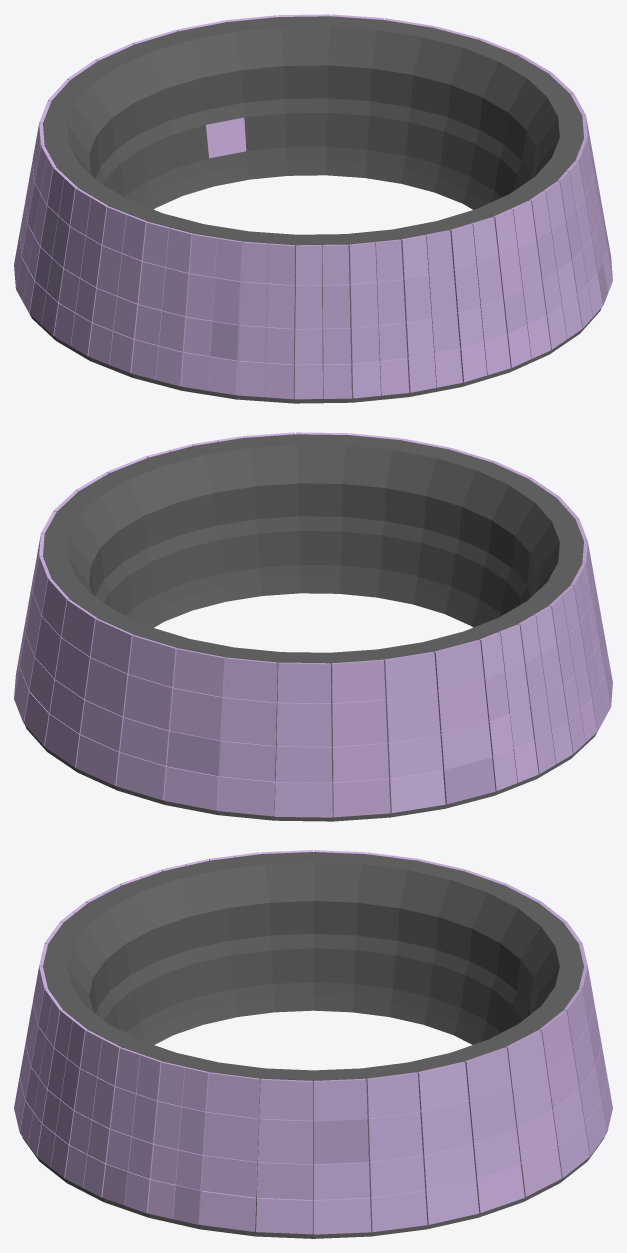
File: BlastFurnaceR.gltf
The picture shows the model from 3 angles, top to bottom: view 1: azimuth 30°, elevation 25°; view 2: azimuth 150°, elevation 25°; view 3: azimuth 270°, elevation 25°; orthographic projection.
Parts seen in each view (by area): view 1: HearthF, H2S09, H3S34, H3S32, H3S36, H3S35, H3S33, H3S31, H3S37, H3S30, H3S38, H3S29 (+83 smaller); view 2: HearthF, H3S04, H3S03, H3S05, H3S02, H3S06, H4S03, H4S04, H4S05, H3S01, H4S02, H1S04 (+51 smaller); view 3: HearthF, H3S14, H3S15, H3S13, H3S16, H3S12, H4S14, H4S15, H4S13, H4S16, H2S14, H2S15 (+57 smaller).
Part boxes in pixels (bbox=[...]): HearthF: bbox=[29, 16, 601, 403]; H2S09: bbox=[206, 117, 246, 158]; H3S34: bbox=[295, 285, 322, 328]; H3S32: bbox=[350, 282, 378, 327]; H3S36: bbox=[239, 281, 268, 326]; H3S35: bbox=[267, 283, 294, 328]; H3S33: bbox=[323, 284, 350, 328]; H3S31: bbox=[376, 279, 405, 325]; H3S37: bbox=[212, 277, 241, 324]; H3S30: bbox=[403, 275, 431, 322]; H3S38: bbox=[186, 273, 214, 320]; H3S29: bbox=[428, 270, 456, 317]; HearthF: bbox=[25, 434, 597, 821]; H3S04: bbox=[276, 702, 331, 746]; H3S03: bbox=[332, 699, 387, 746]; H3S05: bbox=[221, 697, 276, 745]; H3S02: bbox=[385, 691, 440, 742]; H3S06: bbox=[170, 688, 223, 740]; H4S03: bbox=[331, 659, 385, 703]; H4S04: bbox=[277, 662, 331, 703]; H4S05: bbox=[223, 657, 277, 702]; H3S01: bbox=[437, 679, 488, 734]; H4S02: bbox=[384, 651, 437, 699]; H1S04: bbox=[274, 782, 332, 817]; HearthF: bbox=[22, 852, 604, 1238]; H3S14: bbox=[313, 1118, 368, 1164]; H3S15: bbox=[258, 1118, 313, 1164]; H3S13: bbox=[368, 1112, 422, 1161]; H3S16: bbox=[204, 1112, 258, 1161]; H3S12: bbox=[420, 1101, 472, 1154]; H4S14: bbox=[313, 1078, 367, 1120]; H4S15: bbox=[259, 1078, 313, 1120]; H4S13: bbox=[366, 1072, 420, 1118]; H4S16: bbox=[206, 1072, 260, 1118]; H2S14: bbox=[313, 1162, 369, 1199]; H2S15: bbox=[257, 1162, 313, 1199].
Bounding box in the file's own units: 15.66 × 4.26 × 15.66.
